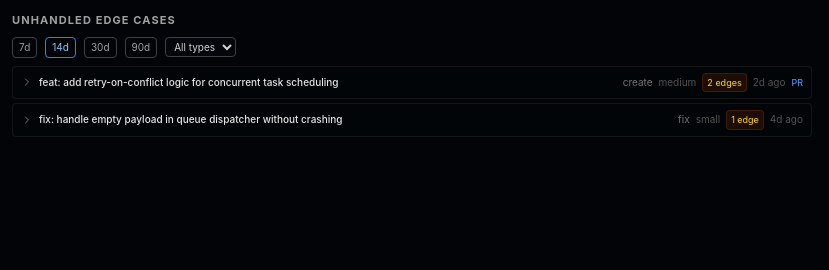
Scenario: SrUnhandledEdgesRetrospectivesPanel — viewport regression › expanded row reveals unhandled edge case text and blind_spot
Click the button named "expand " at (27, 82), box [21,76,33,88]
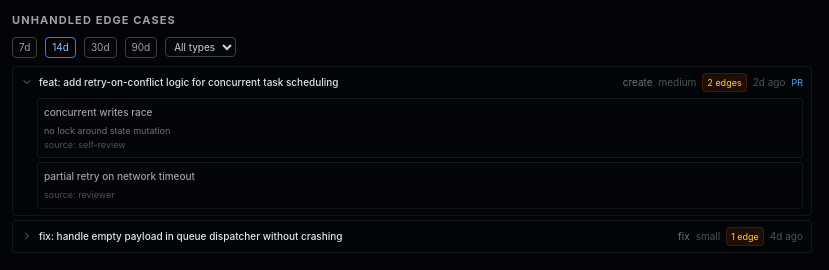
Expected: the text "concurrent writes race" is shown, [44,106,152,118]
Expected: the text "no lock around state mutation" is shown, [44,125,170,136]
